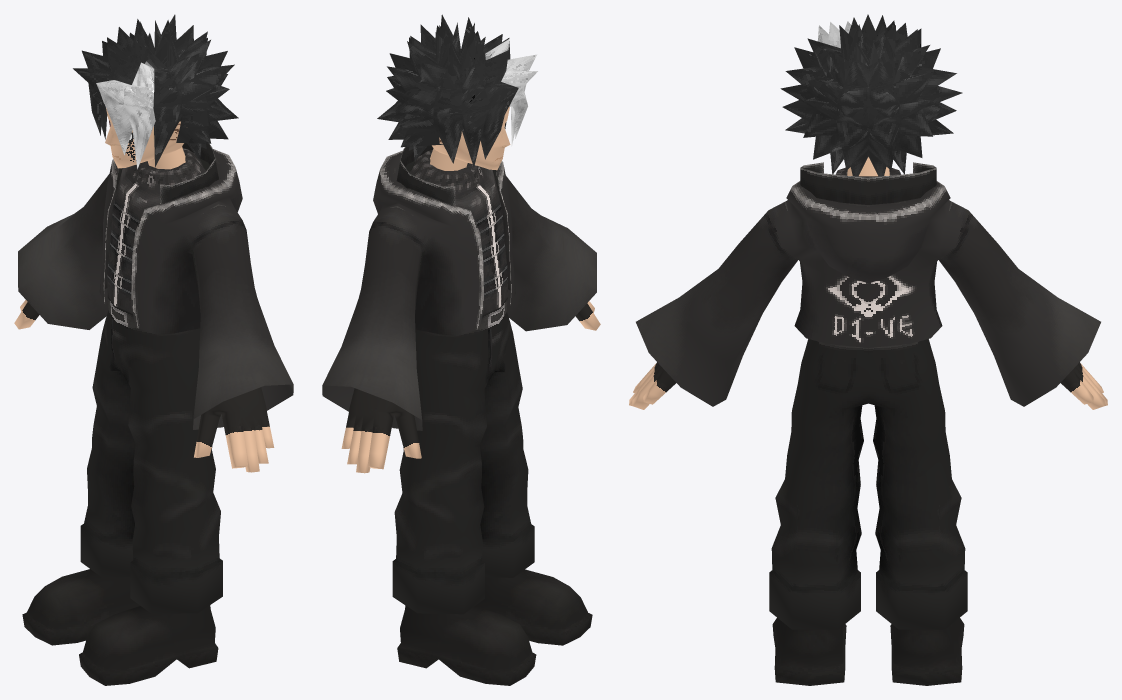
The picture shows the model from 3 angles, left to right: view 1: azimuth 30°, elevation 25°; view 2: azimuth 150°, elevation 25°; view 3: azimuth 270°, elevation 25°; orthographic projection. The views are drawn at different scales.
Parts seen in each view (by area): view 1: body; view 2: body; view 3: body.
Part boxes in pixels (<box>): body: <box>14,14,293,685</box>; body: <box>322,14,600,685</box>; body: <box>629,14,1107,685</box>.
Bounding box in the file's own units: 1.28 × 4.24 × 2.82.
Materials: 1 (1 with a texture image).
